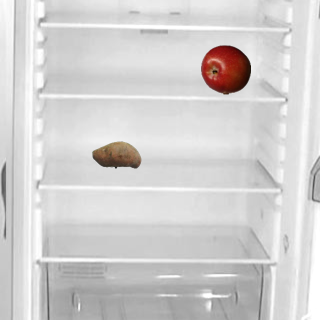Apple Braeburn: (200, 44, 250, 94)
Potato Sweet: (91, 129, 141, 179)
